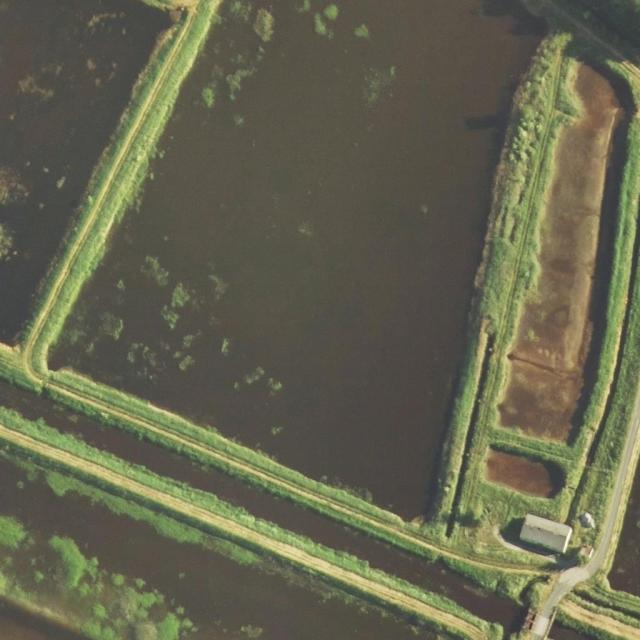building: (517, 512, 574, 556)
greenland: (0, 352, 547, 601), (8, 0, 222, 358)
wetland: (499, 62, 637, 445), (478, 450, 563, 505)
